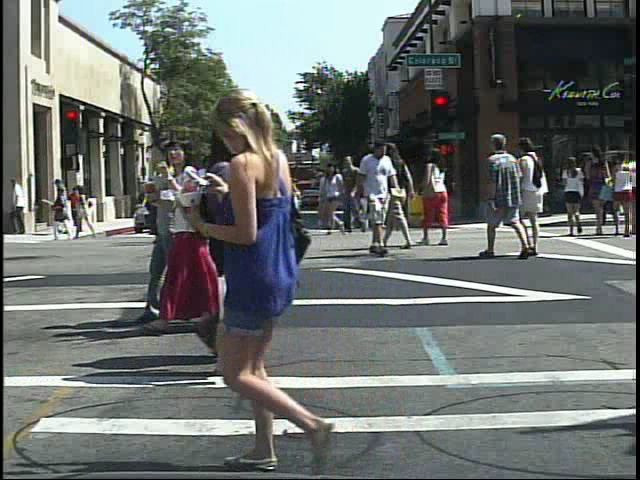person: (190, 76, 373, 477), (152, 119, 276, 381), (141, 134, 245, 343), (226, 105, 298, 366), (139, 130, 183, 332), (483, 127, 523, 263), (355, 133, 398, 259), (207, 141, 248, 260), (517, 133, 555, 261), (247, 150, 290, 261), (417, 143, 460, 252), (260, 147, 303, 250), (220, 150, 257, 252), (190, 153, 228, 251), (386, 138, 418, 251), (560, 150, 592, 239), (165, 172, 185, 241), (68, 182, 88, 232)
